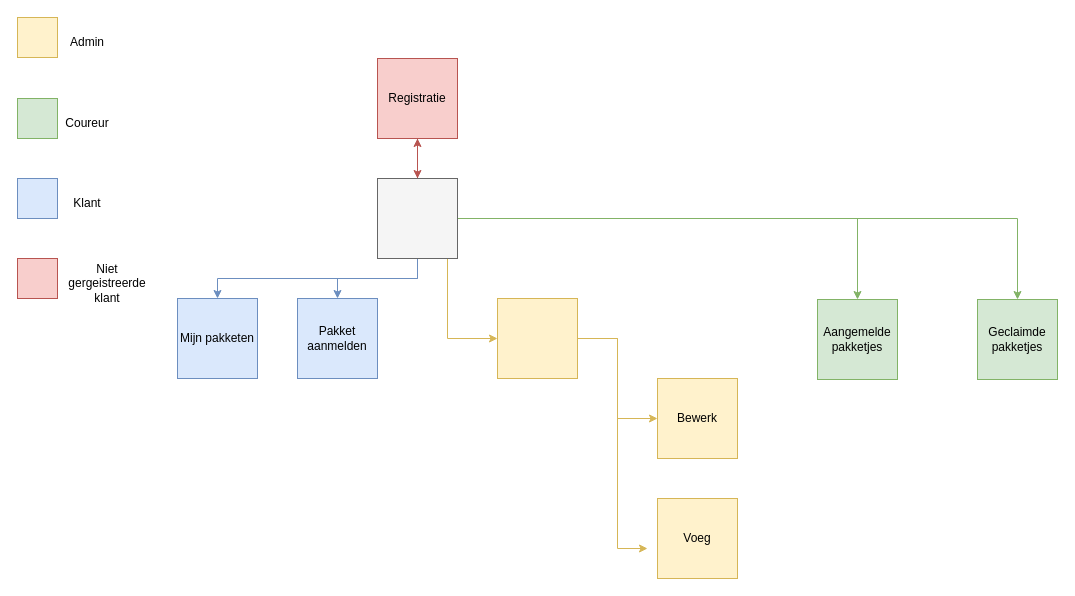
The diagram is 1075 pixels wide and 596 high, and some of its shapes have lost their labels. The centre of each missing label's shape, as x and y in pixels:
"Beheer coureurs" belongs at (537,338).
"Login" belongs at (417,218).
